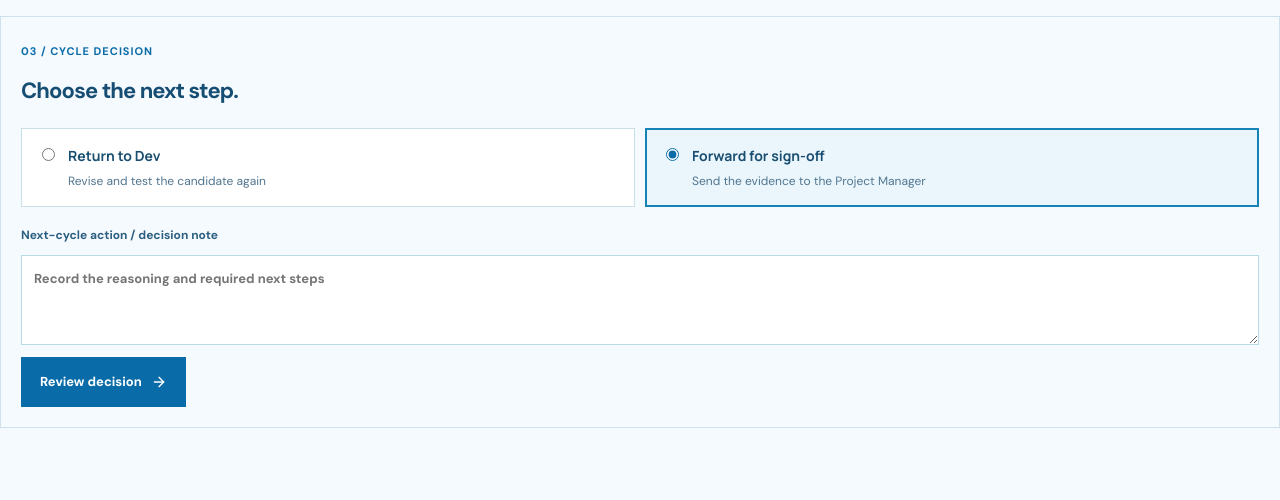
Test: Technical Lead release decision controls › requires a review note before confirmation
Click the button "Review decision". click: (103, 382)
box: [21, 357, 186, 406]
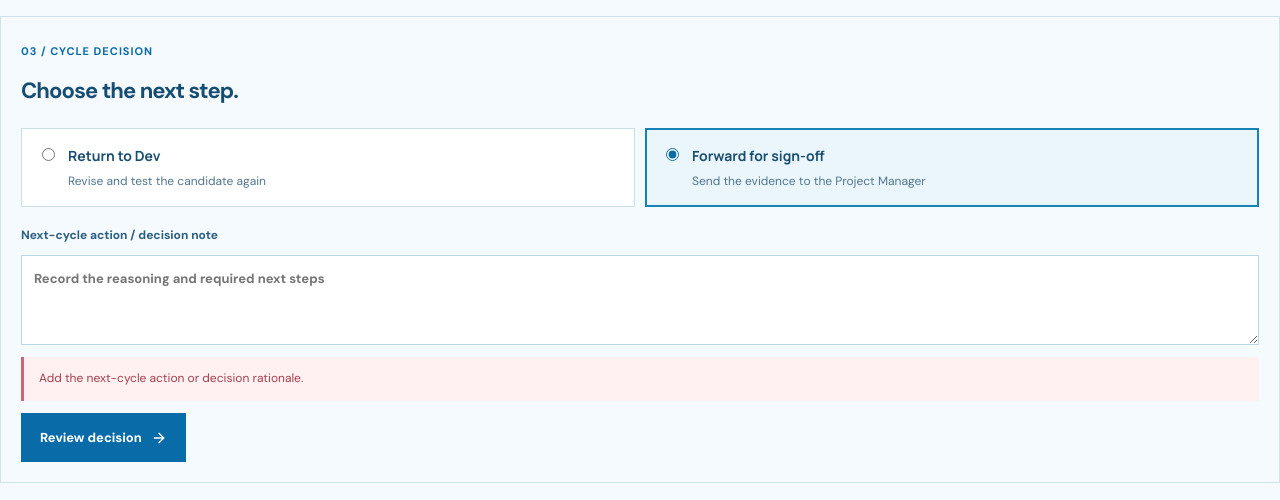
Check: the message shows "Add the next-cycle action", box [39, 370, 303, 386]
